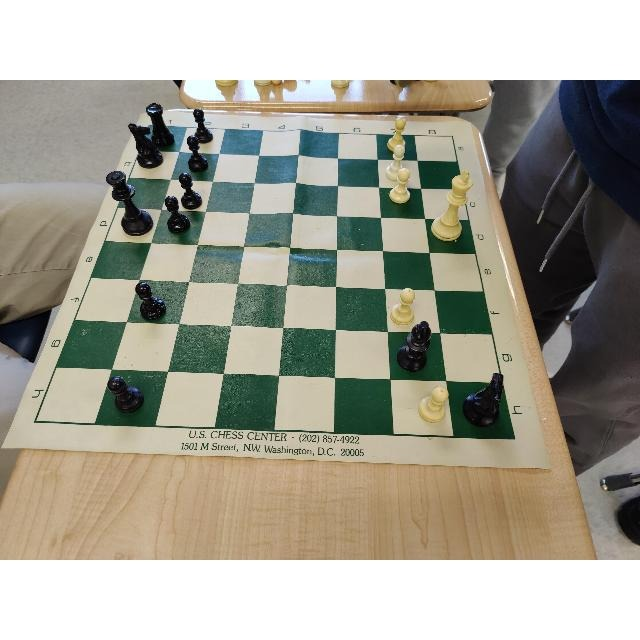black-bishop: (397, 321, 433, 373)
black-king: (106, 171, 153, 237)
black-knight: (463, 372, 503, 427), (128, 123, 164, 169)
black-pawn: (107, 377, 144, 413), (135, 282, 167, 322), (164, 195, 190, 234), (179, 173, 202, 209), (186, 135, 208, 172), (193, 108, 213, 144)
black-rook: (146, 103, 175, 146)
white-king: (432, 169, 472, 241)
white-pawn: (417, 385, 448, 423), (391, 288, 415, 326), (390, 168, 410, 204), (386, 145, 405, 179), (388, 118, 406, 151)
